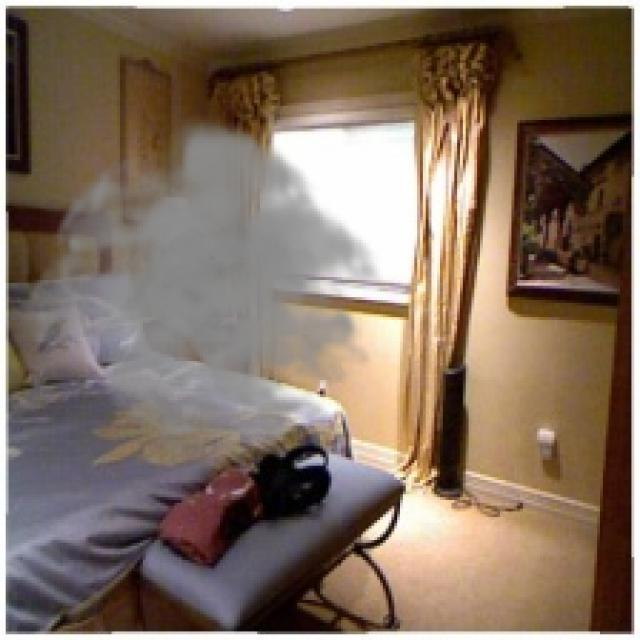smoke: (17, 114, 394, 460)
